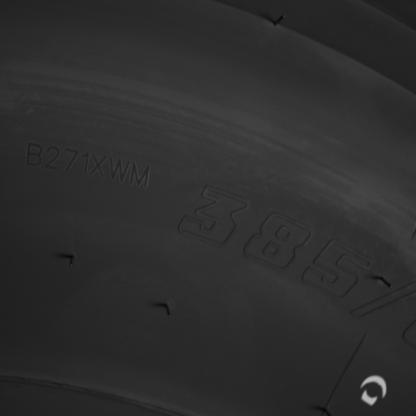ocr: (26, 141, 151, 191)
